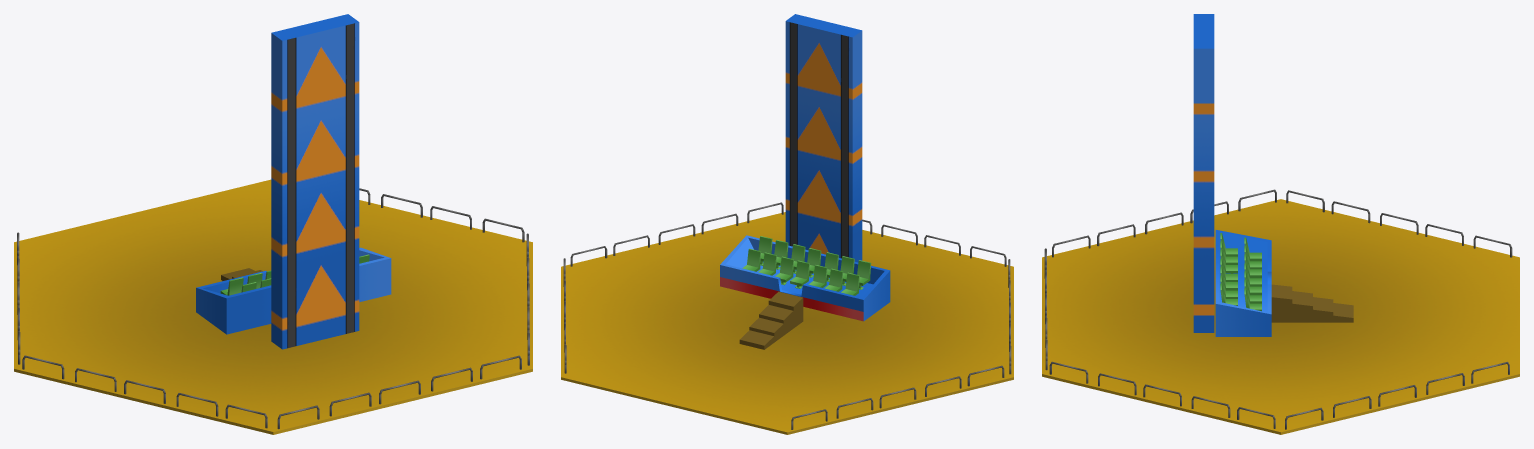
File: ETC0210001.fbx
3 renders of one model, left to right at view 1: azimuth 30°, elevation 25°; view 2: azimuth 150°, elevation 25°; view 3: azimuth 270°, elevation 25°, orthographic. The views are drawn at different scales.
Visible parts, largest first — view 1: smETC0210001; view 2: smETC0210001; view 3: smETC0210001.
Boxes of the visible parts, x1,y1,x2,y2 form: smETC0210001: (14,14,532,434); smETC0210001: (561,14,1013,434); smETC0210001: (1042,14,1519,434).
Bounding box in the file's own units: 2685 × 1541 × 2325.
Materials: 1 (1 with a texture image).
